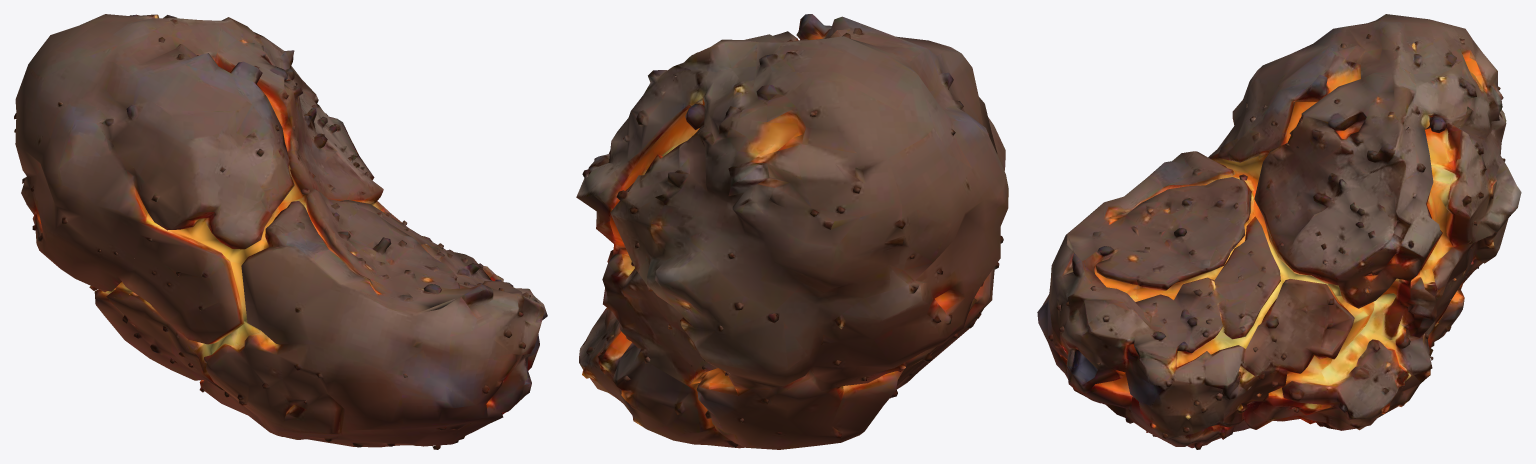
File: meteor-shard.glb
3 renders of one model, left to right at view 1: azimuth 30°, elevation 25°; view 2: azimuth 150°, elevation 25°; view 3: azimuth 270°, elevation 25°, orthographic. The views are drawn at different scales.
Visible parts, largest first — view 1: tripo_node_50ac2b4b-1284-4082-806a-107eaa33281d; view 2: tripo_node_50ac2b4b-1284-4082-806a-107eaa33281d; view 3: tripo_node_50ac2b4b-1284-4082-806a-107eaa33281d.
Part boxes in pixels (x1,y1,x2,y2): tripo_node_50ac2b4b-1284-4082-806a-107eaa33281d: [14, 14, 547, 449]; tripo_node_50ac2b4b-1284-4082-806a-107eaa33281d: [576, 14, 1008, 449]; tripo_node_50ac2b4b-1284-4082-806a-107eaa33281d: [1037, 14, 1521, 449].
Bounding box in the file's own units: 0.8434 × 0.7632 × 1.
Materials: 1 (1 with a texture image).
